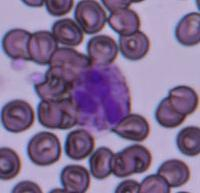E: (69, 62, 131, 134)
